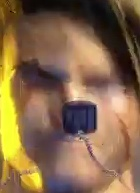kevin: (14, 21, 124, 171)
